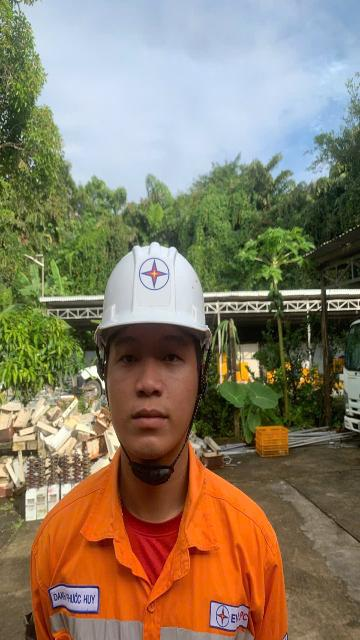helmet: (81, 231, 236, 363)
